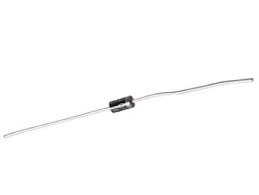diode: (95, 83, 154, 133)
